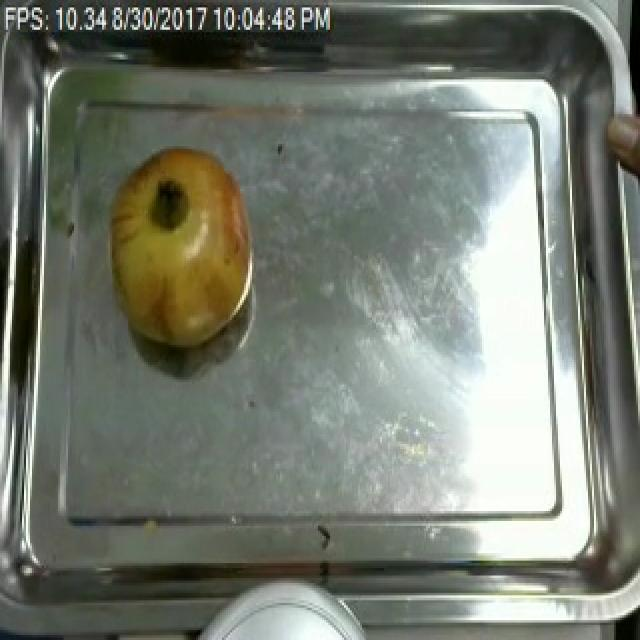fruit: (100, 134, 262, 360), (606, 92, 640, 196)
